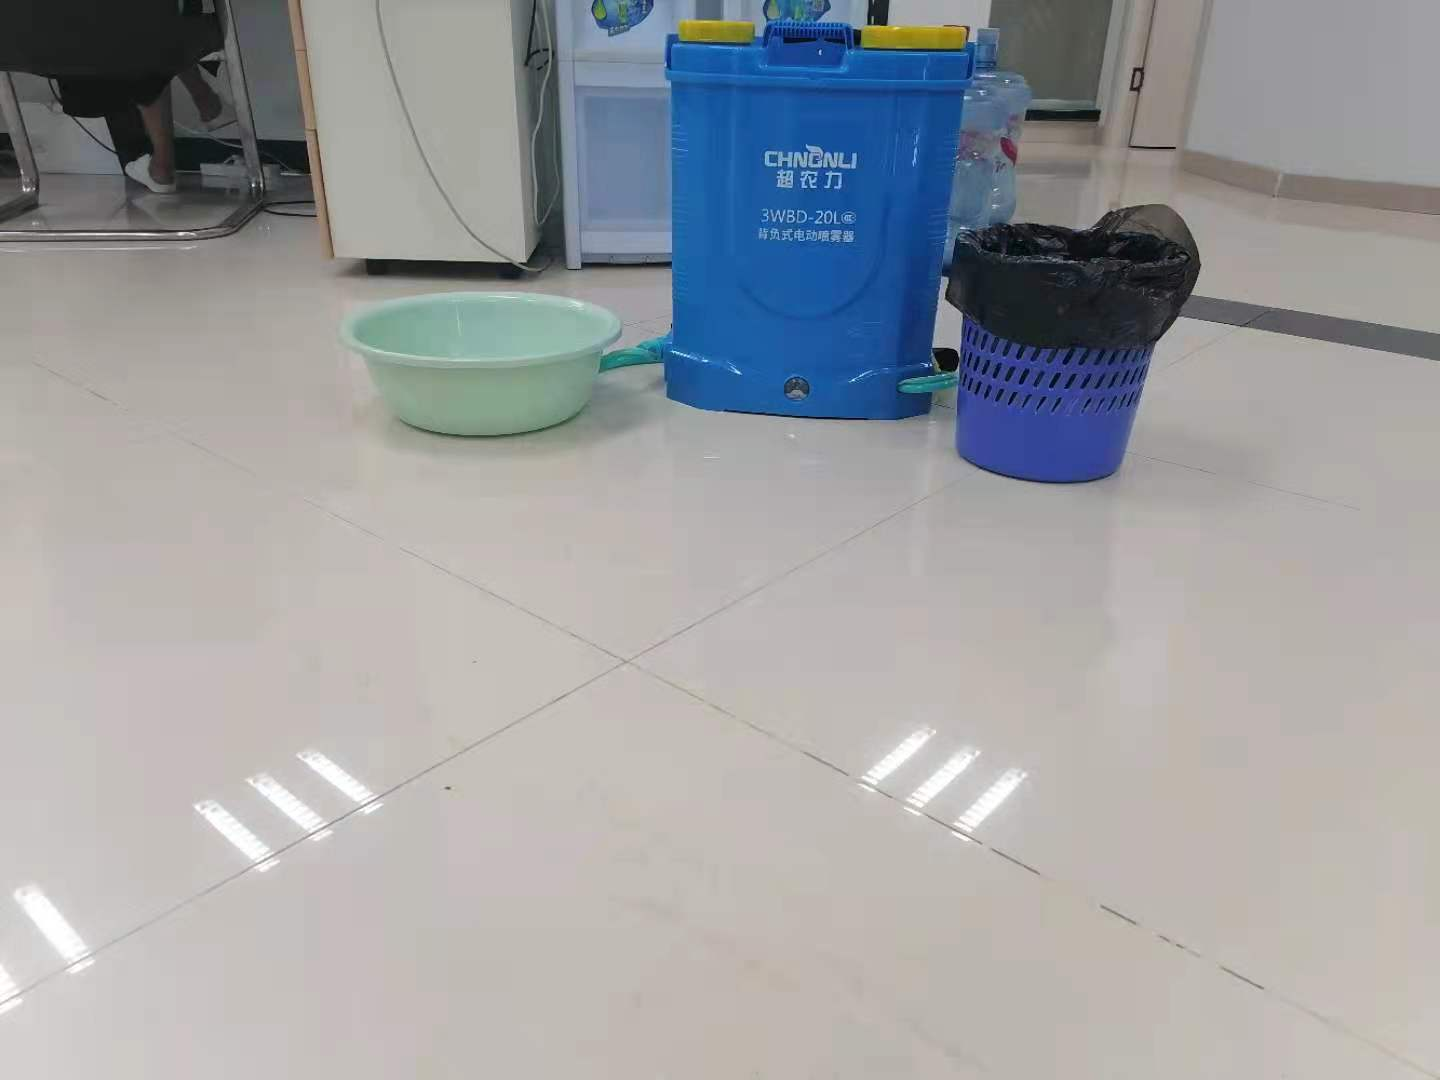berrl: (655, 12, 973, 427)
